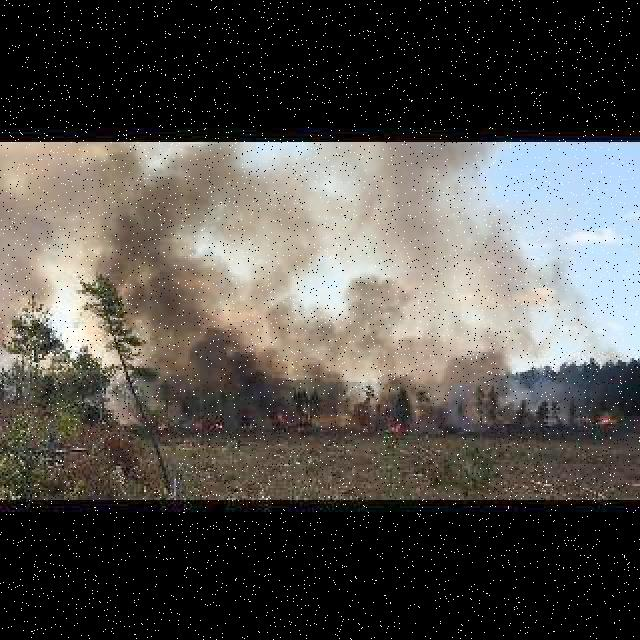smoke: (9, 144, 591, 408)
